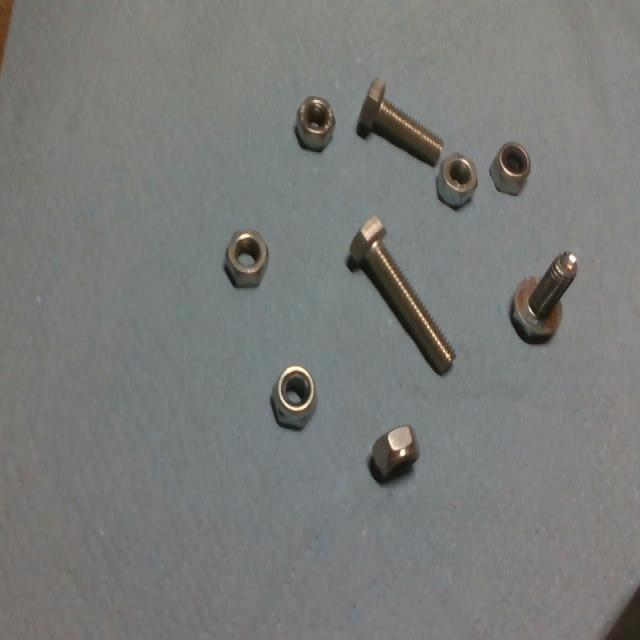Bolt: (346, 209, 461, 379), (353, 70, 444, 169), (508, 245, 582, 349)
Nut: (364, 417, 424, 487), (270, 360, 322, 434), (221, 226, 274, 287), (489, 134, 539, 198), (433, 144, 480, 208), (294, 97, 339, 153)
